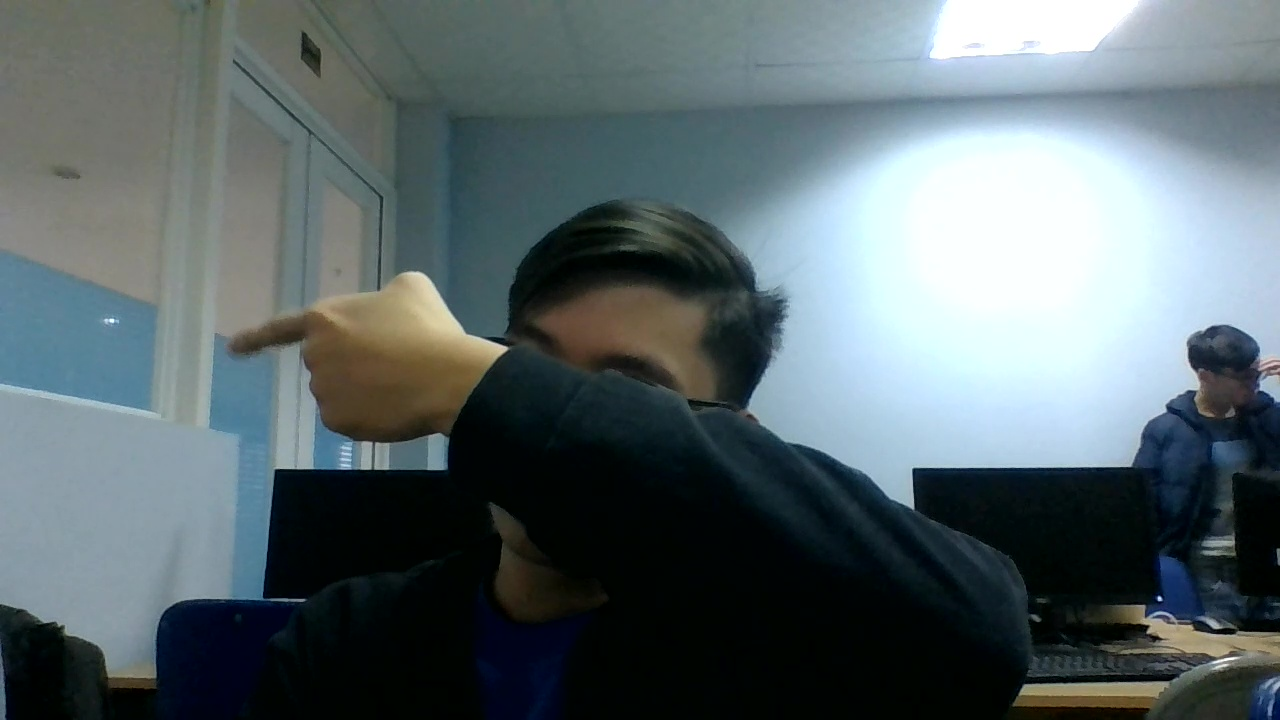right: (226, 269, 460, 460)
